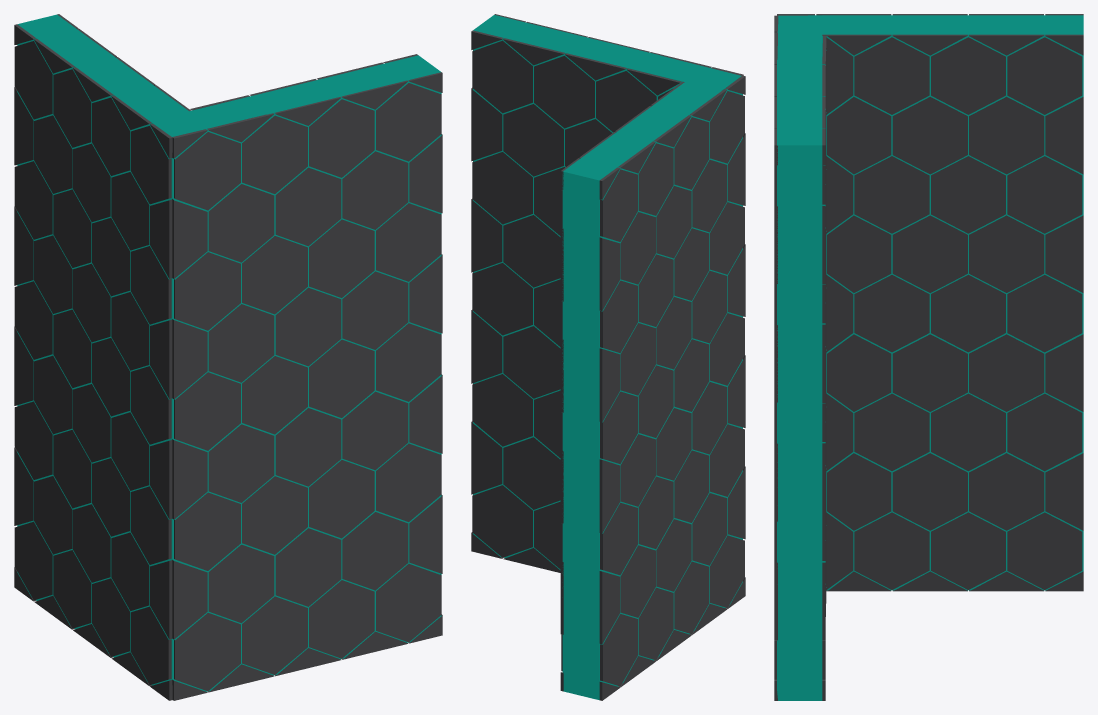
Rendered from HexagonGridCorner.glb.
The picture shows the model from 3 angles, left to right: view 1: azimuth 30°, elevation 25°; view 2: azimuth 150°, elevation 25°; view 3: azimuth 270°, elevation 25°; orthographic projection. The views are drawn at different scales.
Parts seen in each view (by area): view 1: wall_hexagon_corner; view 2: wall_hexagon_corner; view 3: wall_hexagon_corner.
Boxes of the visible parts, left/top/right/bottom form: wall_hexagon_corner: left=14, top=14, right=442, bottom=700; wall_hexagon_corner: left=471, top=14, right=745, bottom=700; wall_hexagon_corner: left=774, top=14, right=1083, bottom=700.
Size of what is drawn, in the model's own units: 2.03 by 4 by 2.02.
2 materials, 2 textured.
